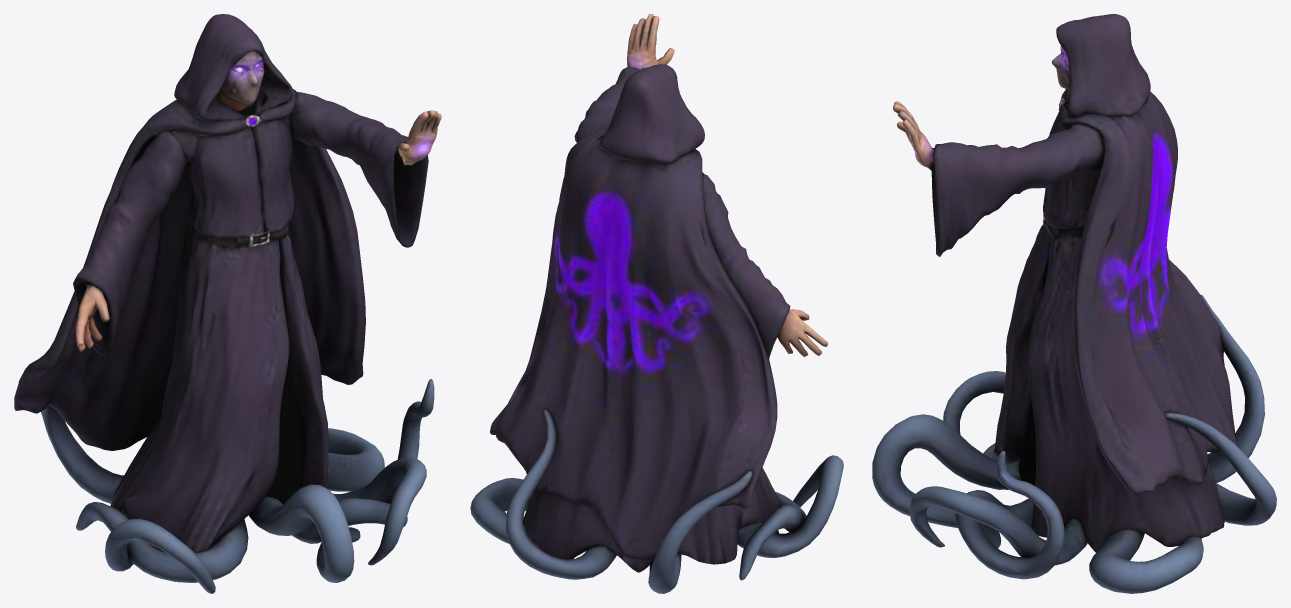
Rendered from MZ4250 - Priest of Osybus_kraken.glb.
3 views of the same model, side by side, from view 1: azimuth 30°, elevation 25°; view 2: azimuth 150°, elevation 25°; view 3: azimuth 270°, elevation 25° (orthographic). The views are drawn at different scales.
Visible parts, largest first — view 1: Body.002; view 2: Body.002; view 3: Body.002.
Boxes of the visible parts, <box> form: Body.002: <box>14,14,441,593</box>; Body.002: <box>470,14,843,593</box>; Body.002: <box>872,14,1276,593</box>.
Bounding box in the file's own units: 63.17 × 89.82 × 65.36.
1 material, 1 textured.
